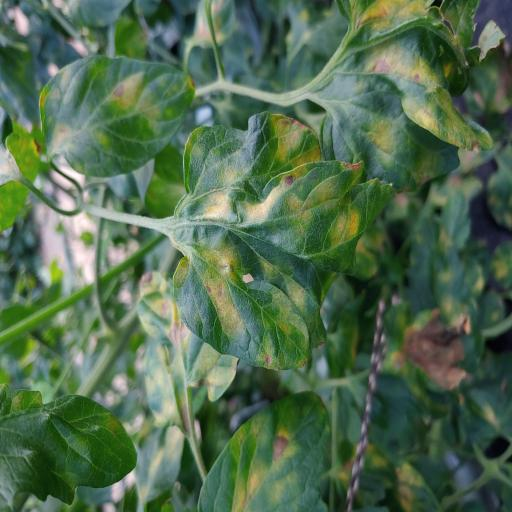disease_tomato: (172, 110, 396, 372), (318, 1, 496, 193), (40, 52, 196, 178), (197, 390, 330, 512)
